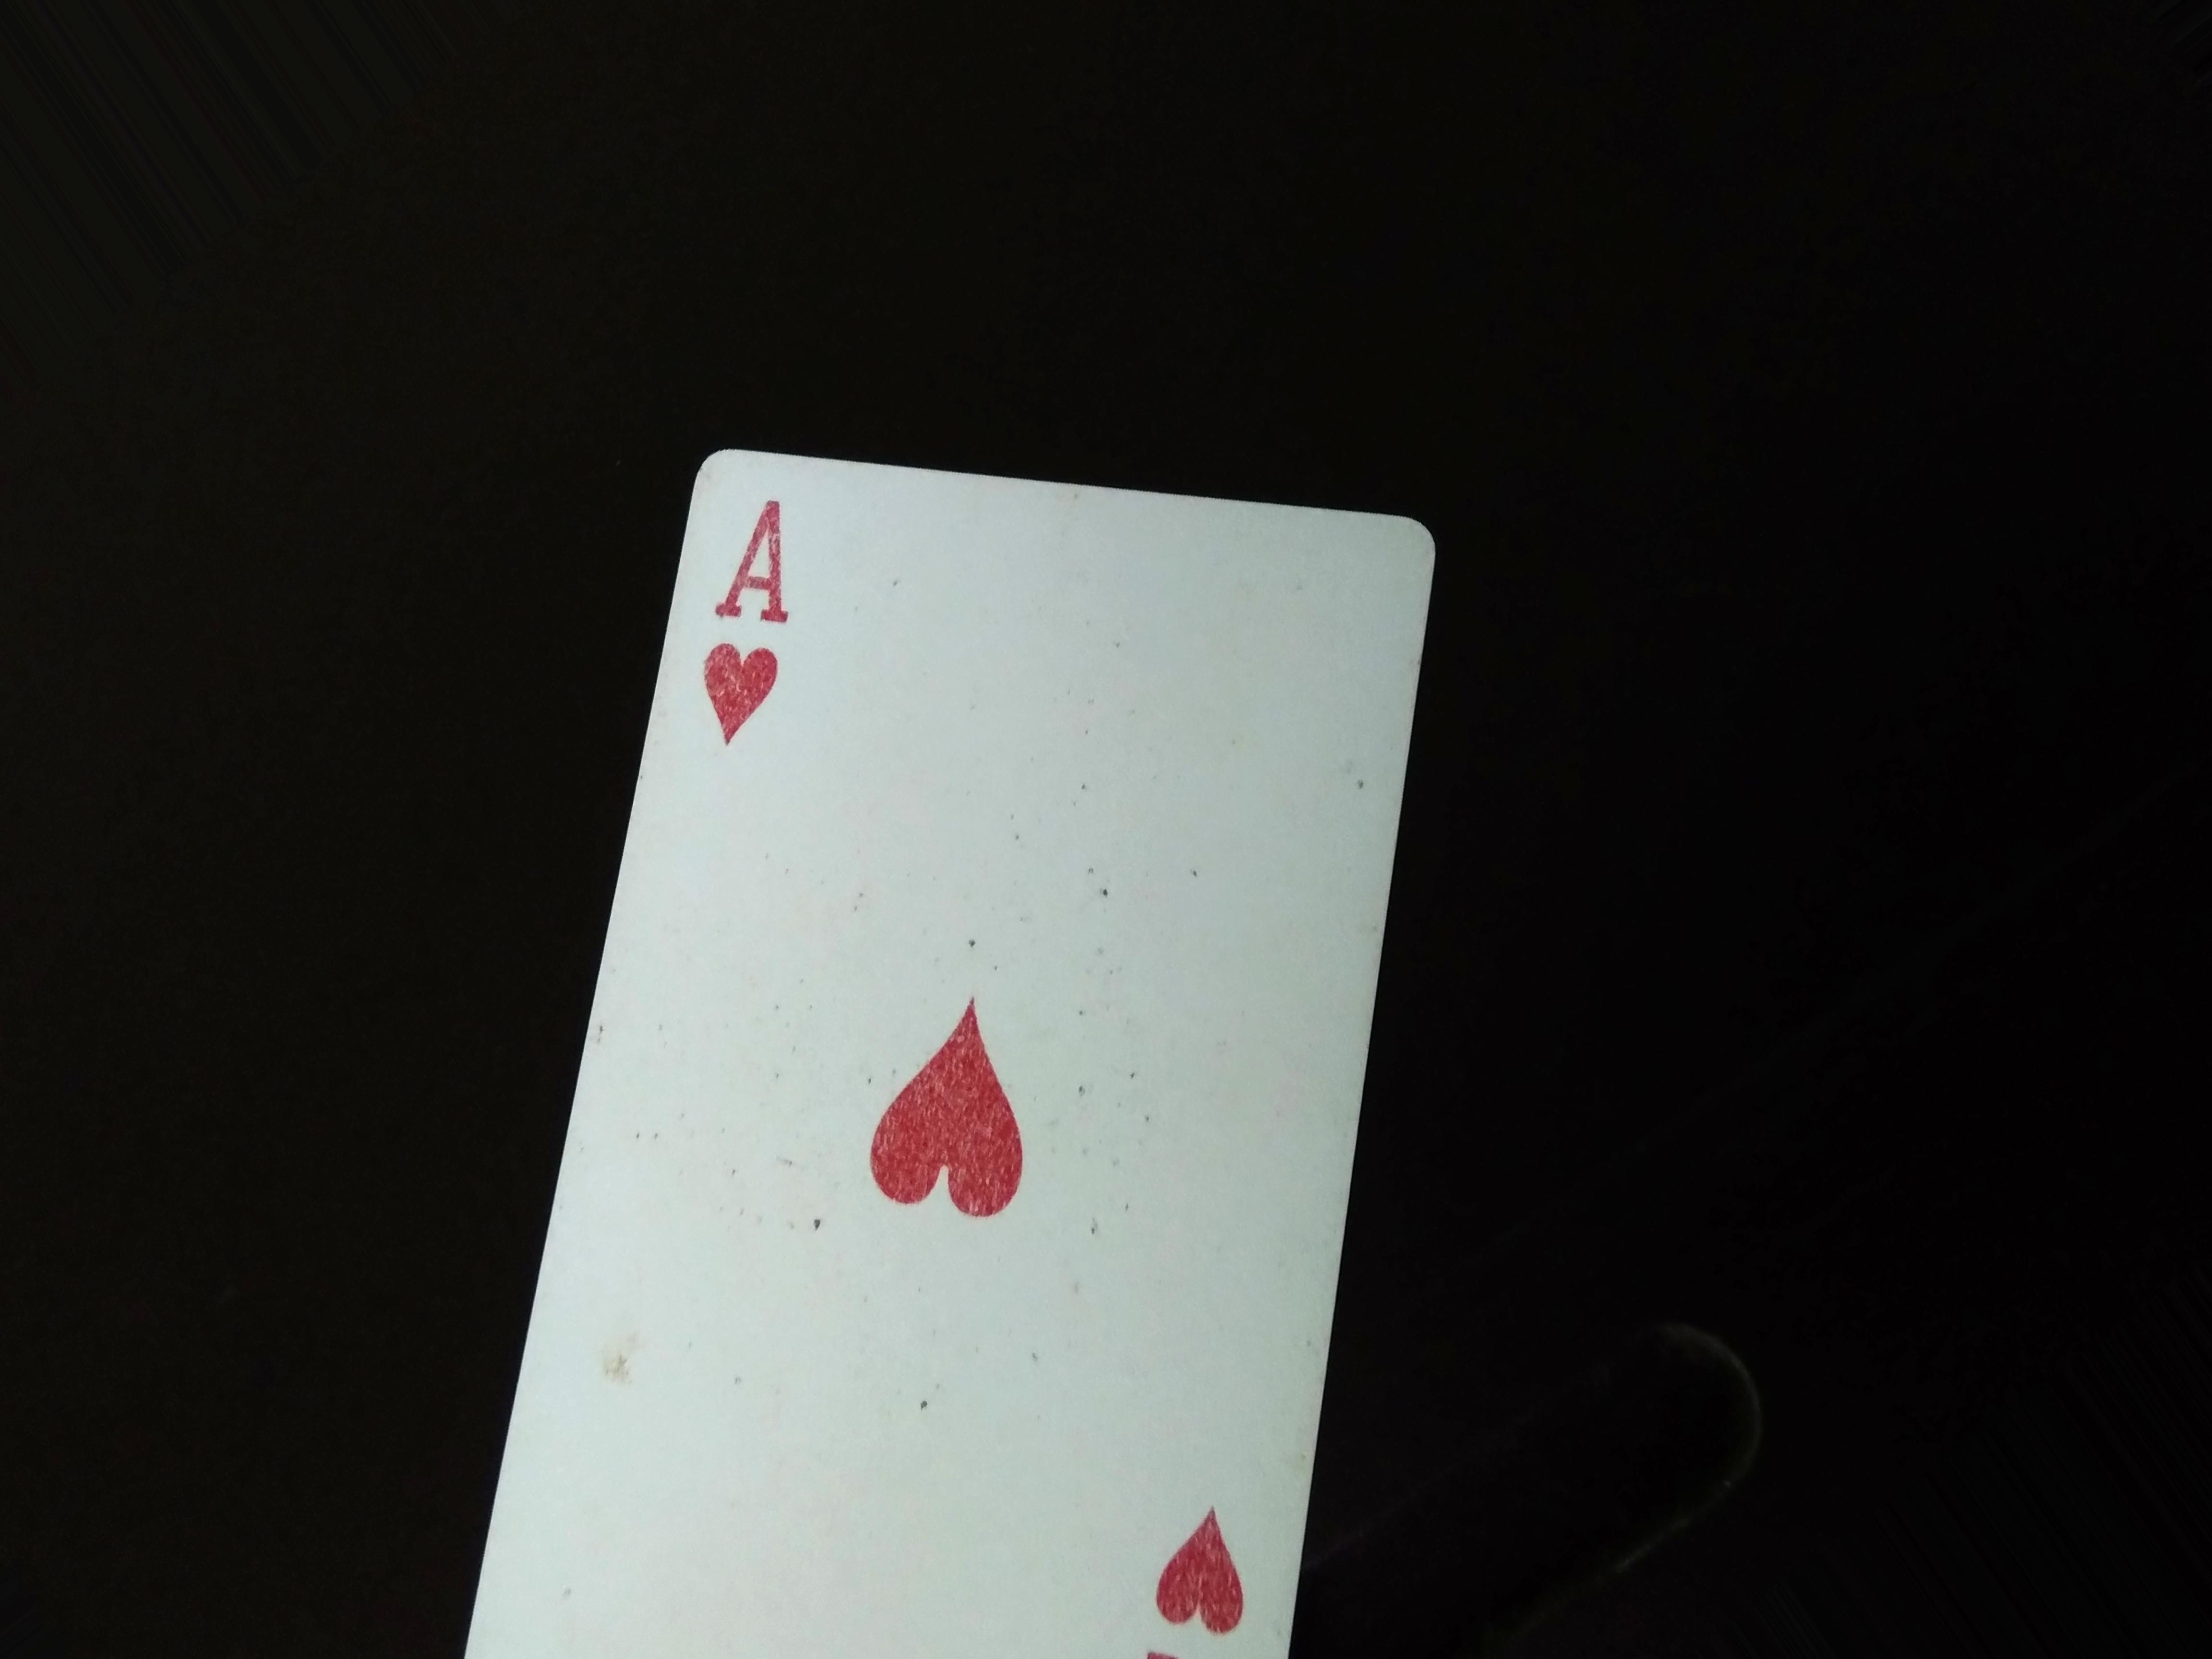AH: (700, 488, 801, 765)
